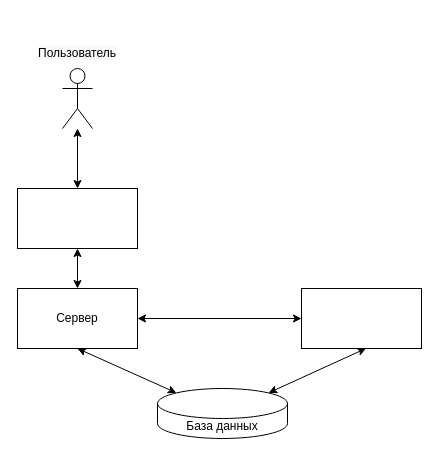
Some shapes in this 439 by 456 pixel diagram are drawn without their labels. The shapes that lost their labels are listed below. From the top down, each one's box as (x1, y1, x2, y2) in pixels, then its label:
(16, 188, 138, 248): Клиентское приложение (пользовательский интерфейс)
(300, 288, 422, 348): Нейронная сеть выработки рекомендаций
